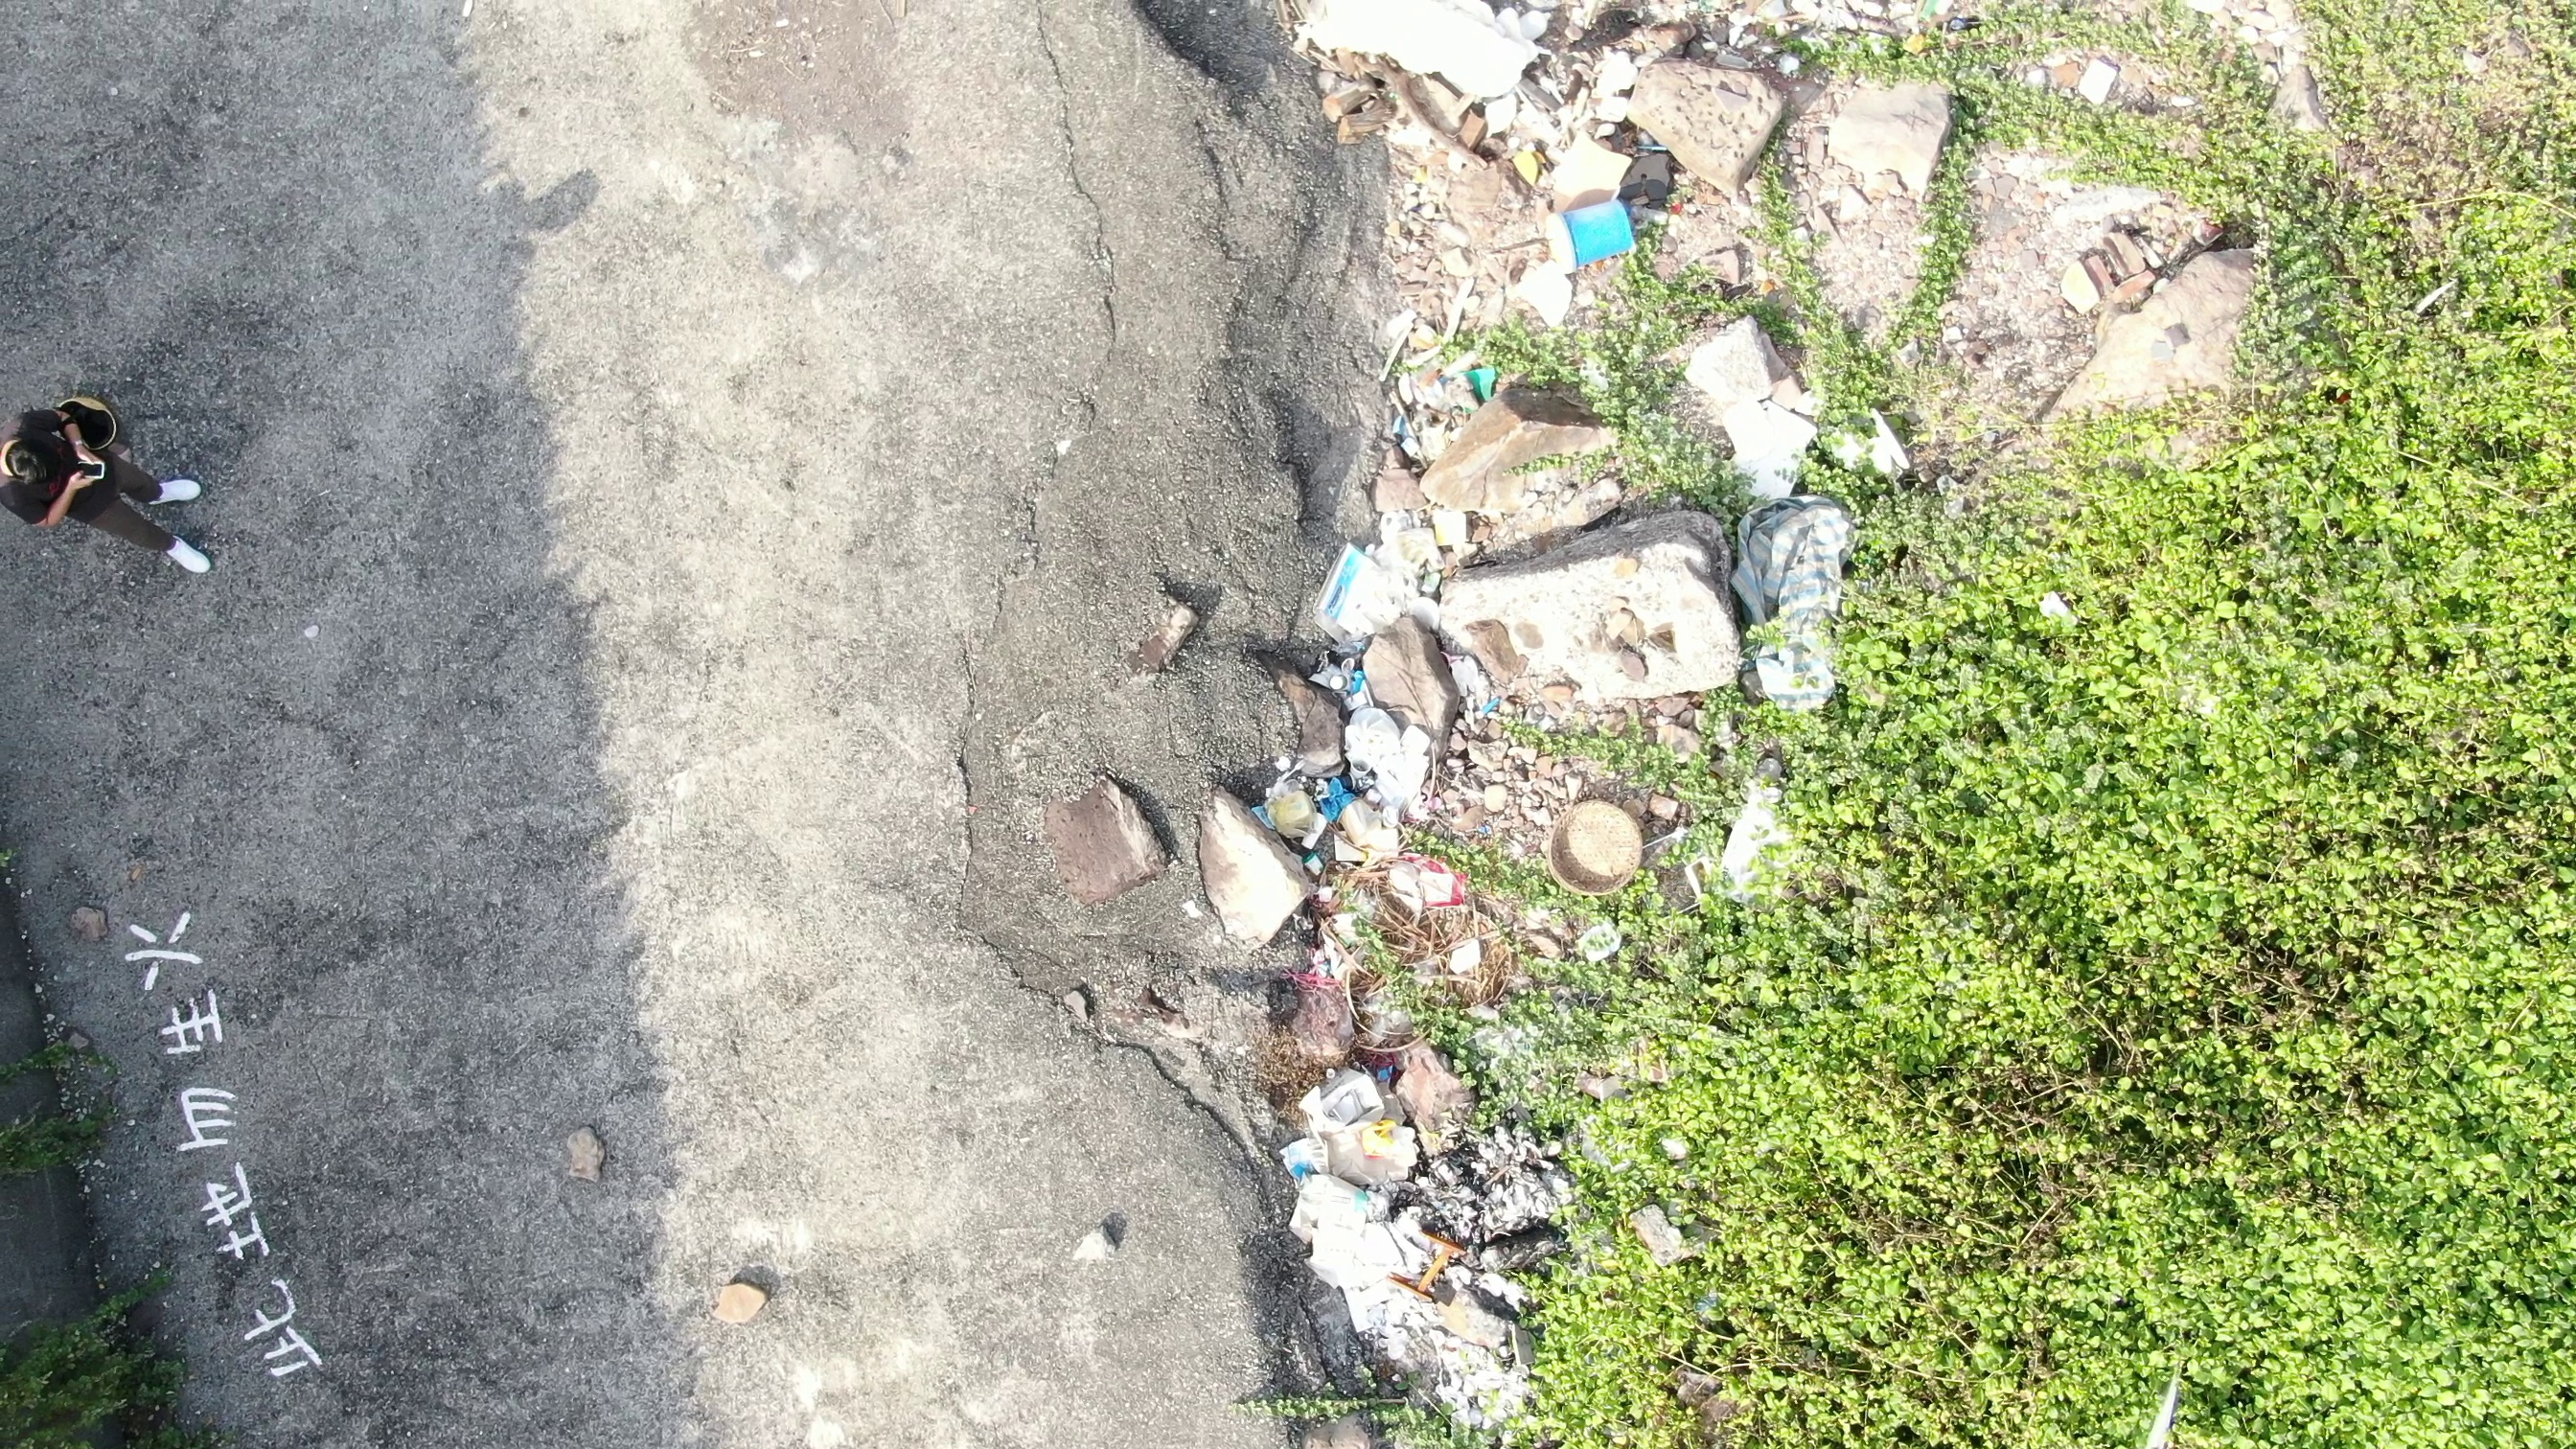garbage: (1270, 1051, 1467, 1307), (1729, 478, 1875, 729), (1281, 844, 1491, 993), (1249, 663, 1387, 862), (1306, 527, 1417, 656), (1550, 198, 1644, 274), (1614, 142, 1688, 205), (1461, 345, 1518, 407)
